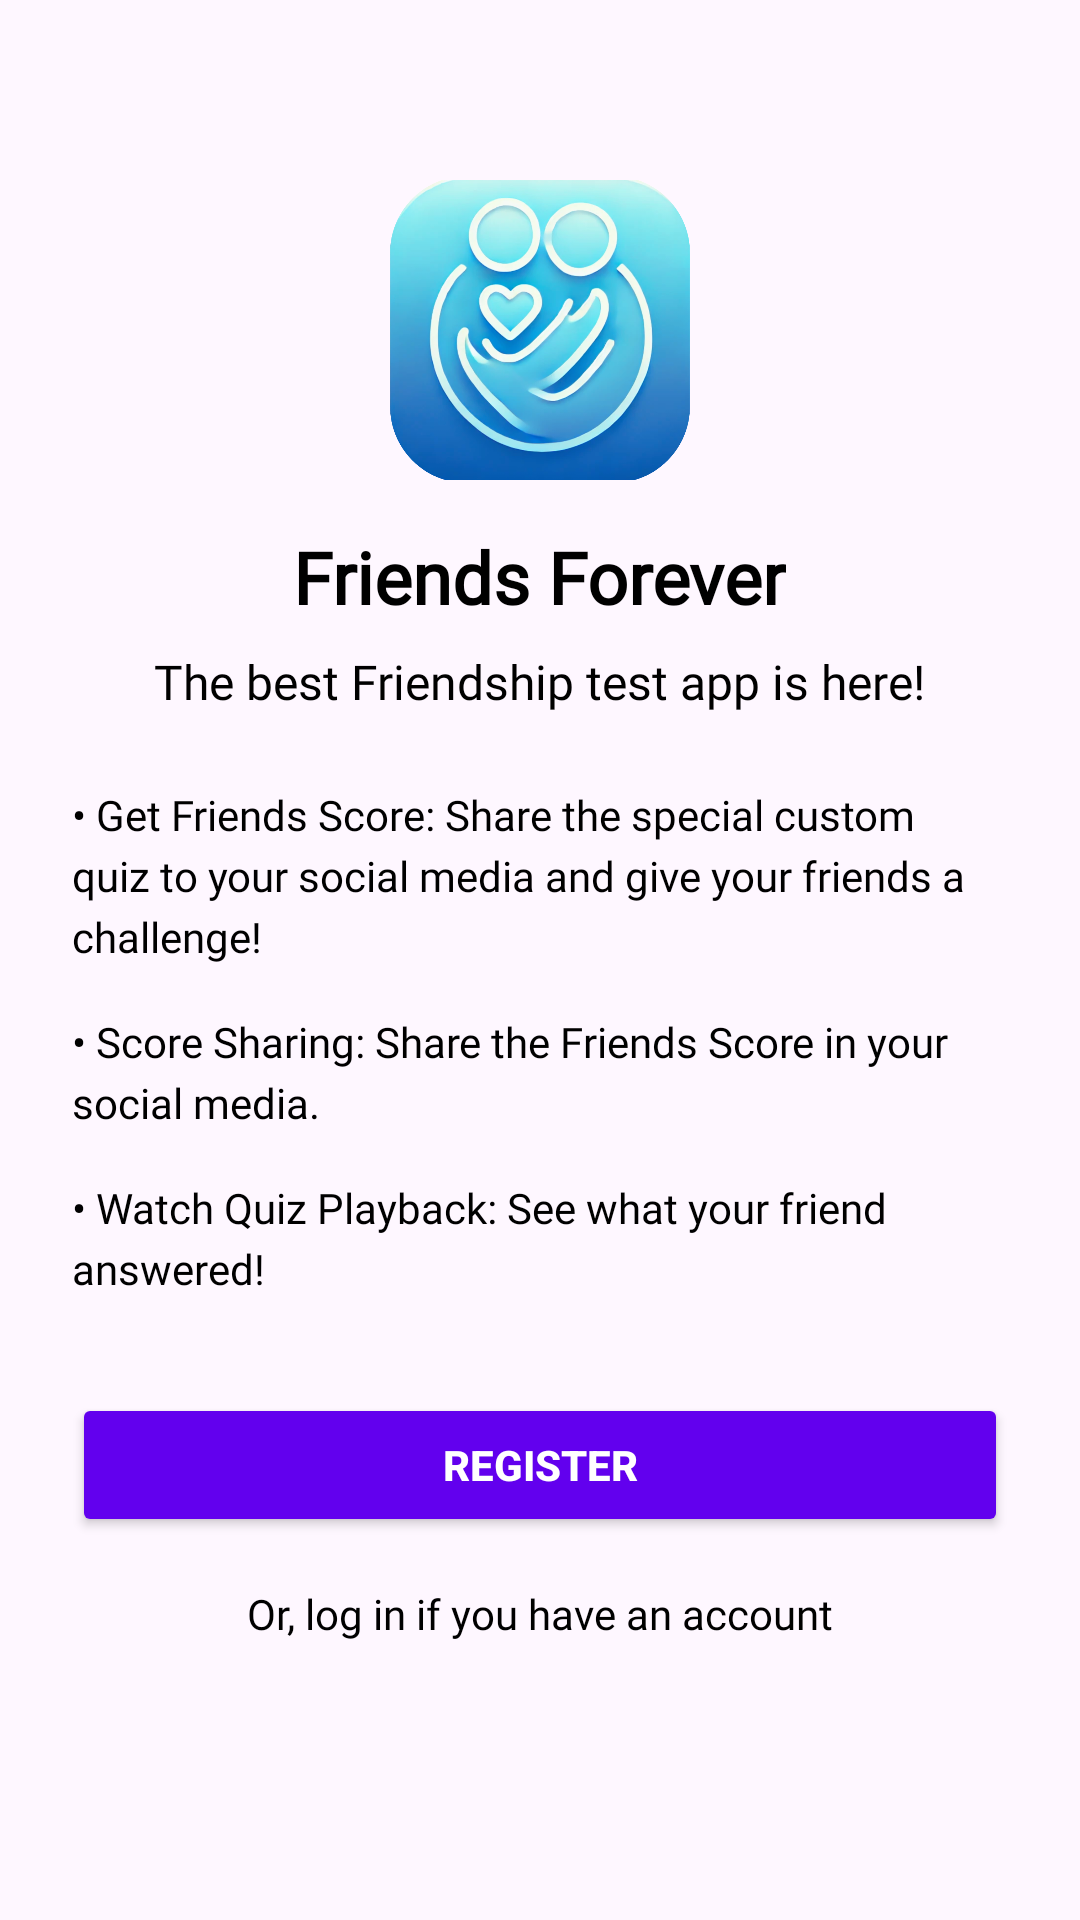

Icon click points for this 1080px x 1920px phone screenshot, format [x,y]:
app: [540,330]
